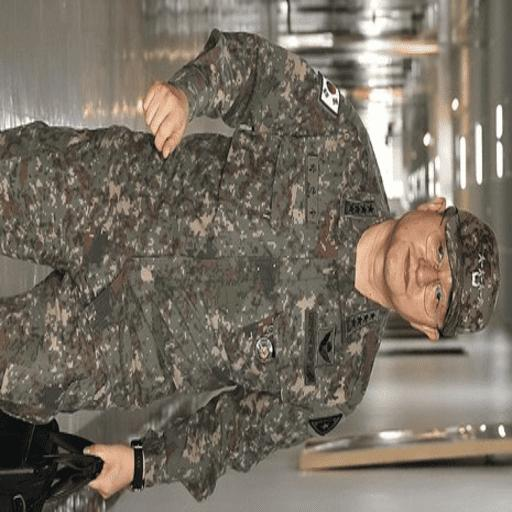korea army: (0, 35, 512, 500)
